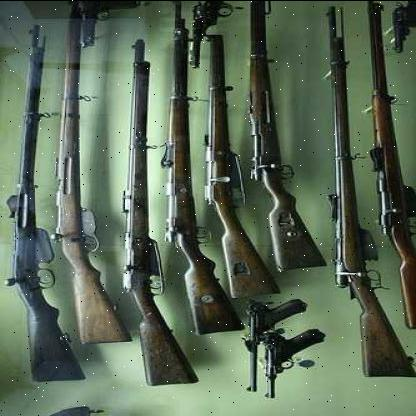rifle: (321, 29, 402, 394), (0, 20, 76, 397), (160, 3, 242, 348), (128, 29, 198, 411), (199, 20, 294, 296), (61, 8, 131, 362), (244, 1, 334, 273)
